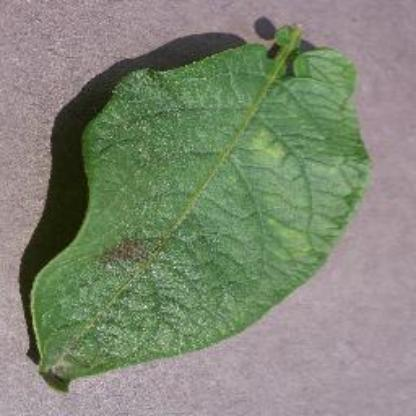Late-Blight: (17, 18, 381, 396)
